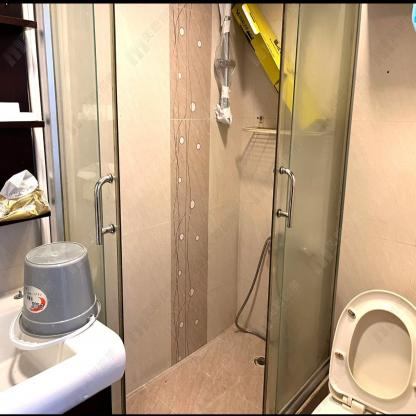Toilet: (309, 290, 416, 416)
Water Cubicle: (36, 2, 361, 416)
